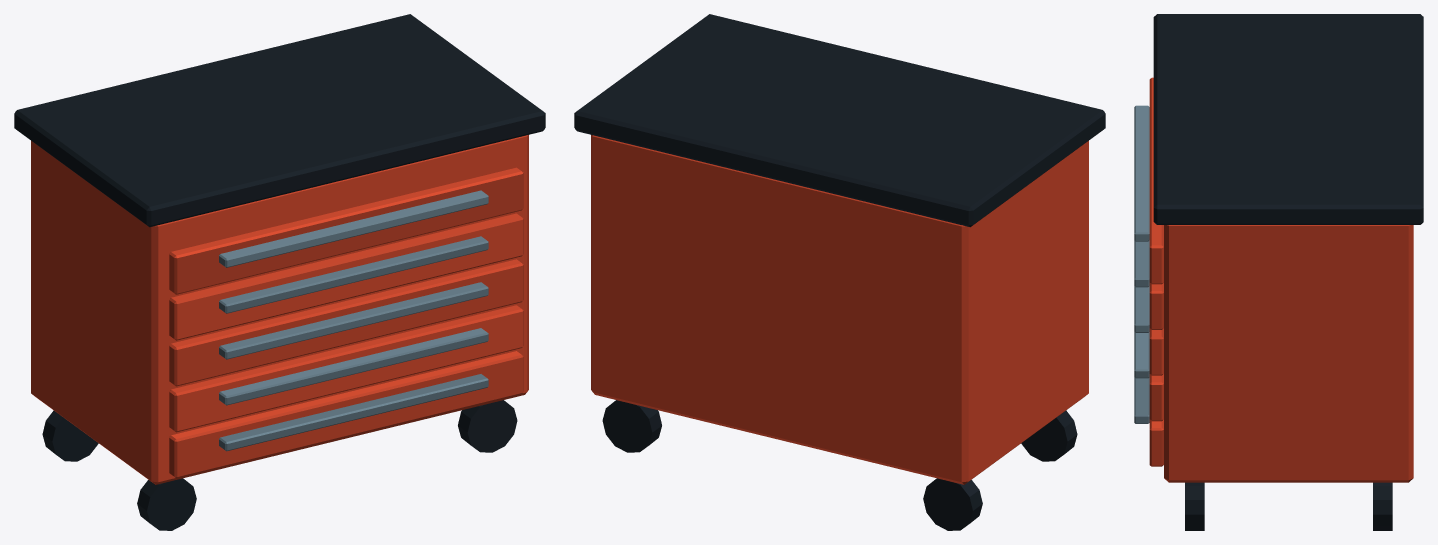
The model's file is EC_ToolChest.fbx.
3 views of the same model, side by side, from view 1: azimuth 30°, elevation 25°; view 2: azimuth 150°, elevation 25°; view 3: azimuth 270°, elevation 25° (orthographic).
Visible parts, largest first — view 1: EC_ToolChest; view 2: EC_ToolChest; view 3: EC_ToolChest.
Boxes of the visible parts, x1,y1,x2,y2 form: EC_ToolChest: [14, 14, 545, 530]; EC_ToolChest: [574, 14, 1105, 530]; EC_ToolChest: [1134, 14, 1423, 530].
Bounding box in the file's own units: 1.12 × 0.9205 × 0.708.
